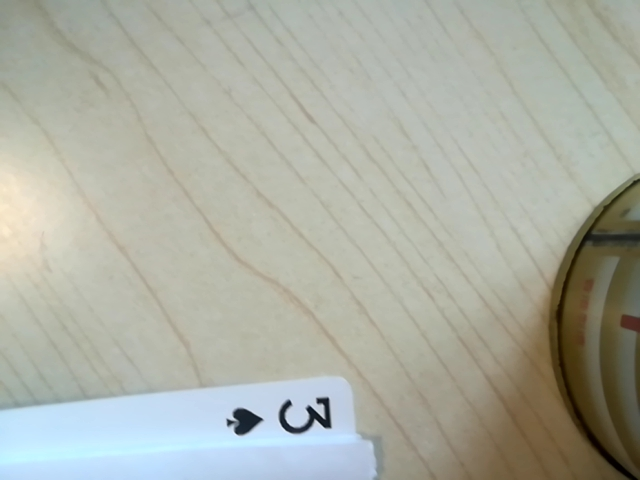ht 3: (211, 385, 357, 451)
